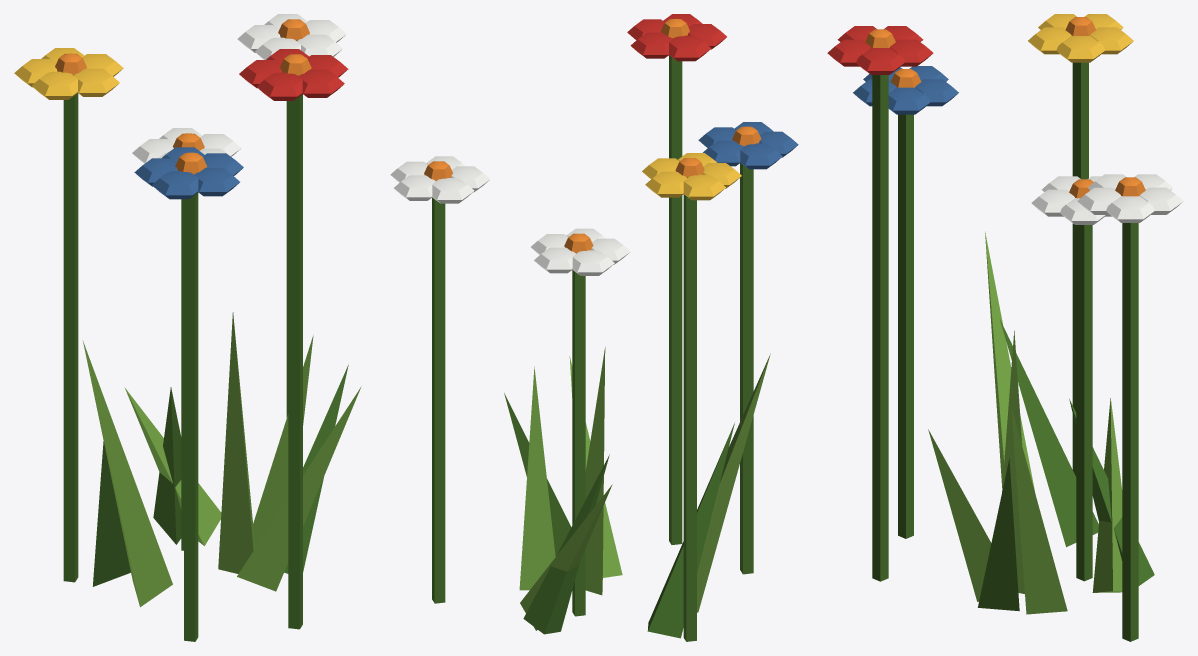
Rendered from SM_Flowers.glb.
The picture shows the model from 3 angles, left to right: view 1: azimuth 30°, elevation 25°; view 2: azimuth 150°, elevation 25°; view 3: azimuth 270°, elevation 25°; orthographic projection. The views are drawn at different scales.
Parts seen in each view (by area): view 1: SM_Flowers; view 2: SM_Flowers; view 3: SM_Flowers.
Part boxes in pixels (<box>): SM_Flowers: <box>14,14,361,641</box>; SM_Flowers: <box>390,14,798,641</box>; SM_Flowers: <box>827,14,1183,641</box>.
Size of the model in its own units: 0.1842 by 0.3045 by 0.1762.
Materials: 1 (1 with a texture image).
